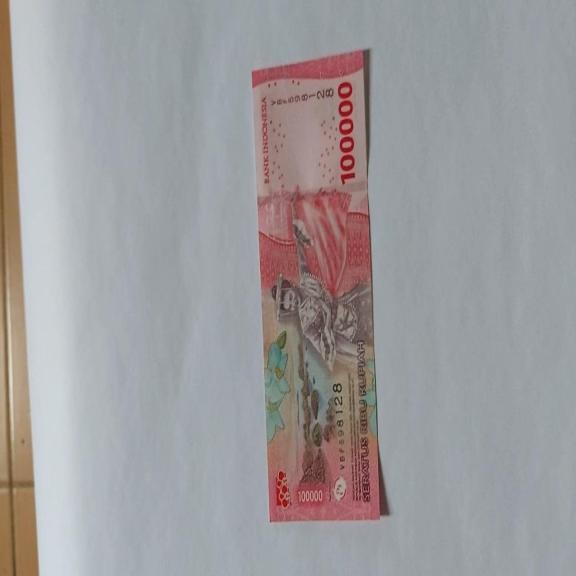Kertas: (251, 49, 381, 522)
